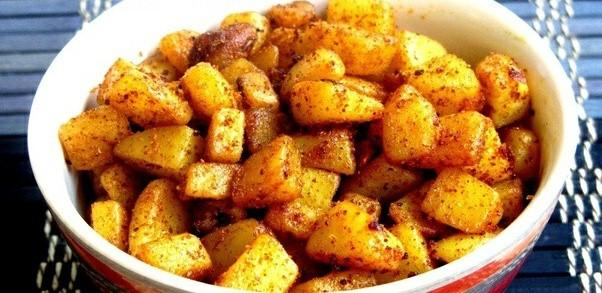AlooMasala: (60, 0, 541, 293)
